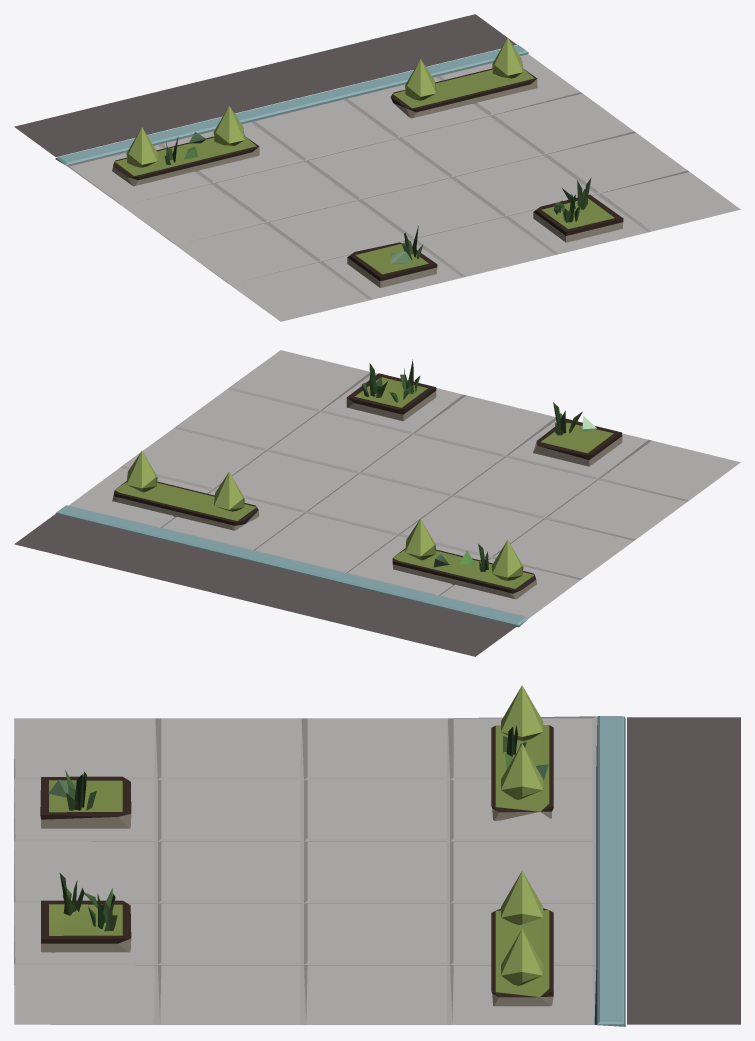
File: QmaDbR7fbSqrAxXrkMTFsrkZFKnaALyCn1hjHA9uRMaCzV_lod2.fbx
3 renders of one model, top to bottom at view 1: azimuth 30°, elevation 25°; view 2: azimuth 150°, elevation 25°; view 3: azimuth 270°, elevation 25°, orthographic. The views are drawn at different scales.
Parts seen in each view (by area): view 1: Entity_513; view 2: Entity_513; view 3: Entity_513.
Boxes of the visible parts, left/top/right/bottom form: Entity_513: left=14, top=14, right=740, bottom=321; Entity_513: left=14, top=350, right=740, bottom=656; Entity_513: left=14, top=685, right=740, bottom=1026.
Bounding box in the file's own units: 16000 × 1591 × 15918.
Materials: 1 (1 with a texture image).
